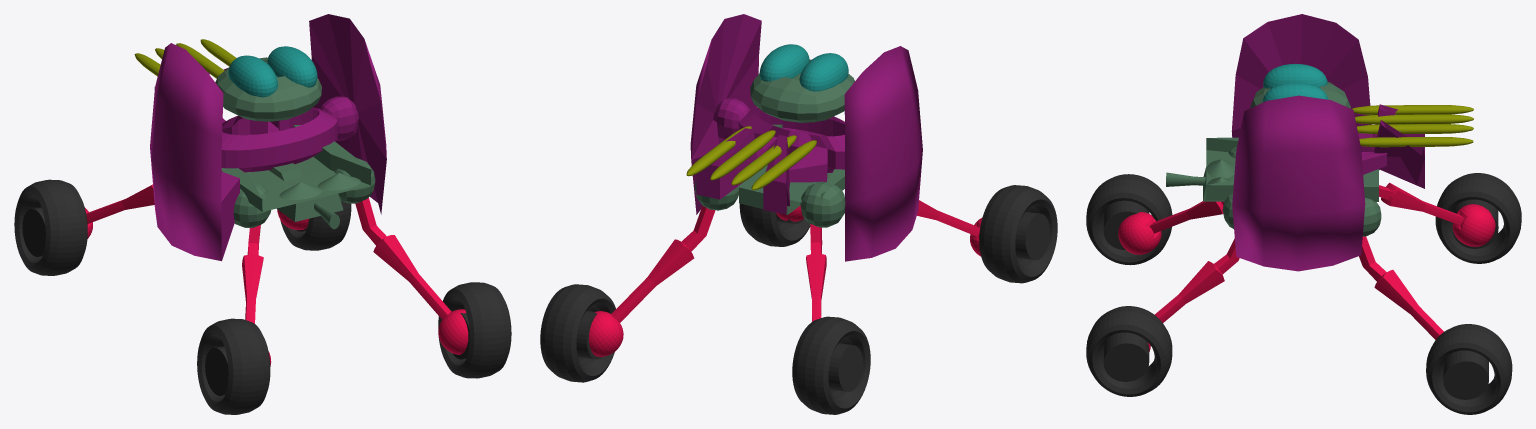
The model's file is boss.fbx.
3 views of the same model, side by side, from view 1: azimuth 30°, elevation 25°; view 2: azimuth 150°, elevation 25°; view 3: azimuth 270°, elevation 25° (orthographic). The views are drawn at different scales.
Parts seen in each view (by area): view 1: Cube.011, Cube, Cylinder.002, Cylinder.003, Cylinder, Cube.001, Cylinder.001, Cube.010, Cube.009, Cube.005, Mball, Cube.008; view 2: Cube.011, Cube, Cylinder.002, Cylinder.003, Cylinder.001, Cube.004, Mball, Cylinder, Cube.010, Cube.009, Cube.008, Cube.005; view 3: Cube.011, Cylinder, Cylinder.001, Cylinder.002, Cylinder.003, Cube, Mball, Cube.008, Cube.005, Cube.004, Cube.001, Cube.010 (+1 smaller).
Part boxes in pixels (box(x1,y1,x2,y2)): Cube.011: box(150, 14, 386, 261); Cube: box(215, 57, 375, 229); Cylinder.002: box(197, 318, 270, 414); Cylinder.003: box(14, 179, 87, 275); Cylinder: box(438, 282, 511, 378); Cube.001: box(355, 197, 468, 354); Cylinder.001: box(280, 201, 351, 250); Cube.010: box(228, 55, 277, 97); Cube.009: box(267, 46, 317, 87); Cube.005: box(242, 225, 271, 366); Mball: box(134, 39, 236, 78); Cube.008: box(85, 184, 154, 238); Cube.011: box(690, 14, 922, 261); Cube: box(694, 59, 854, 227); Cylinder.002: box(979, 185, 1057, 283); Cylinder.003: box(792, 316, 870, 414); Cylinder.001: box(540, 284, 615, 382); Cube.004: box(589, 205, 715, 356); Mball: box(686, 126, 816, 190); Cylinder: box(739, 203, 810, 246); Cube.010: box(799, 53, 848, 91); Cube.009: box(759, 44, 809, 81); Cube.008: box(806, 224, 826, 321); Cube.005: box(917, 200, 982, 256); Cube.011: box(1231, 14, 1424, 271); Cylinder: box(1086, 306, 1172, 396); Cylinder.001: box(1426, 324, 1512, 414); Cylinder.002: box(1086, 174, 1172, 265); Cylinder.003: box(1435, 173, 1521, 263); Cube: box(1166, 82, 1381, 236); Mball: box(1352, 105, 1473, 147); Cube.008: box(1379, 182, 1495, 246); Cube.005: box(1118, 201, 1223, 254); Cube.004: box(1359, 236, 1443, 339); Cube.001: box(1148, 238, 1239, 351); Cube.010: box(1263, 63, 1327, 88).
Size of the model in its own units: 557 by 545 by 723.
